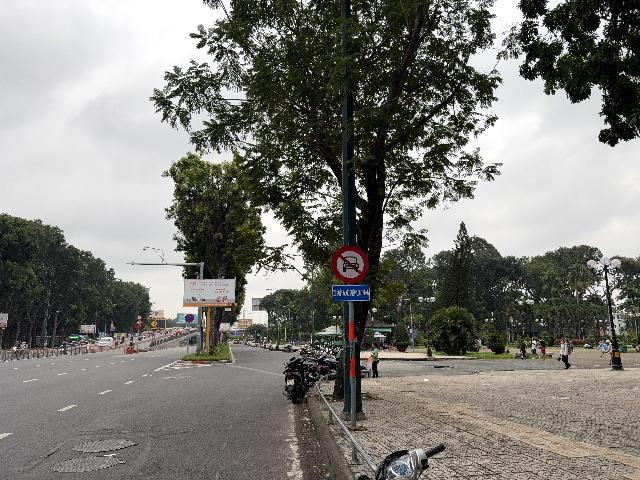cam-o-to: (331, 246, 370, 283)
